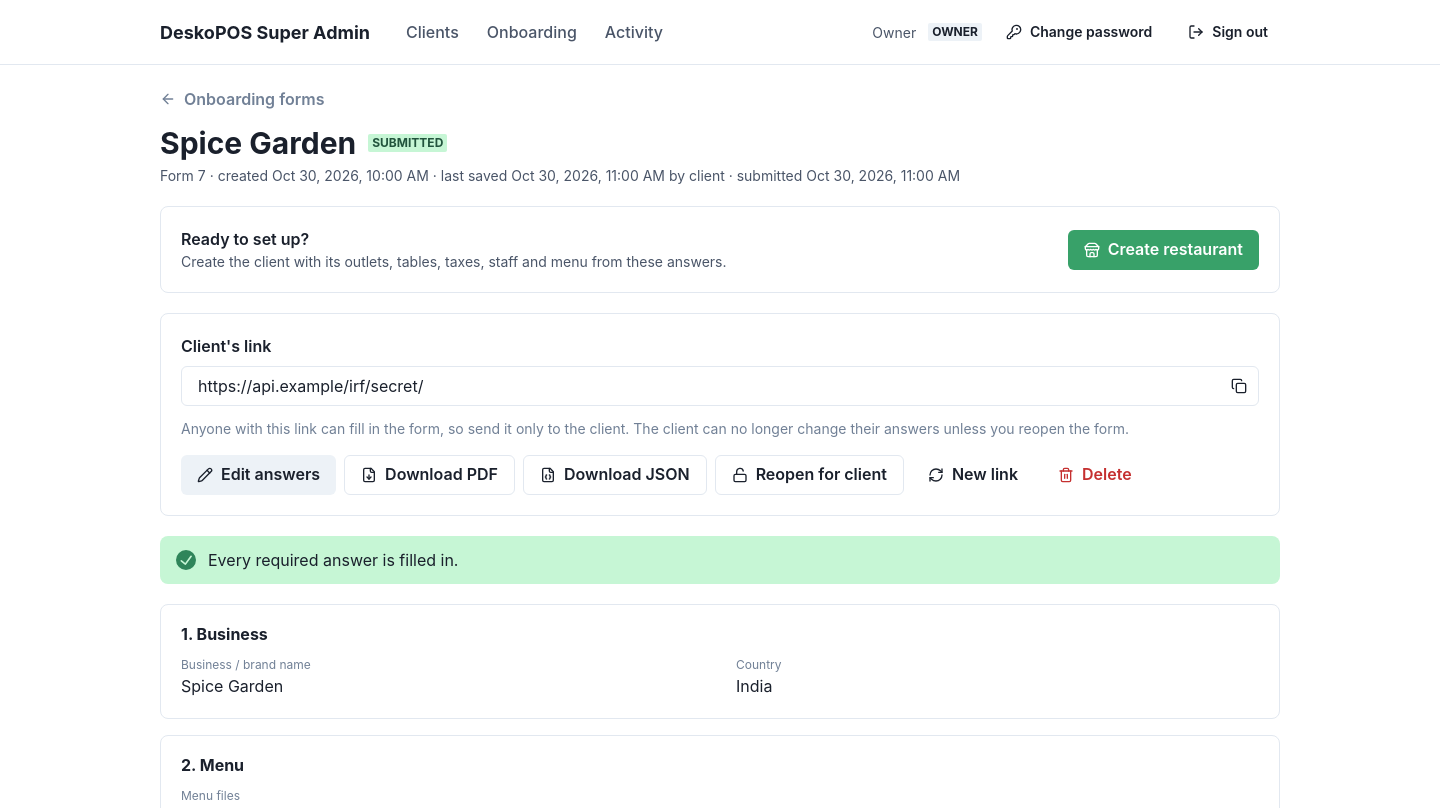
Scenario: onboarding forms › shows the answers, the link and the review actions
Check: the field showing "https://api.example/irf/secret/" is shown, box x1=181 y1=366 x2=1259 y2=406
Check: the text "India" is shown, box x1=736 y1=676 x2=772 y2=696
Click the button "Reopen for client" at point(809, 475), box x1=715 y1=455 x2=904 y2=495
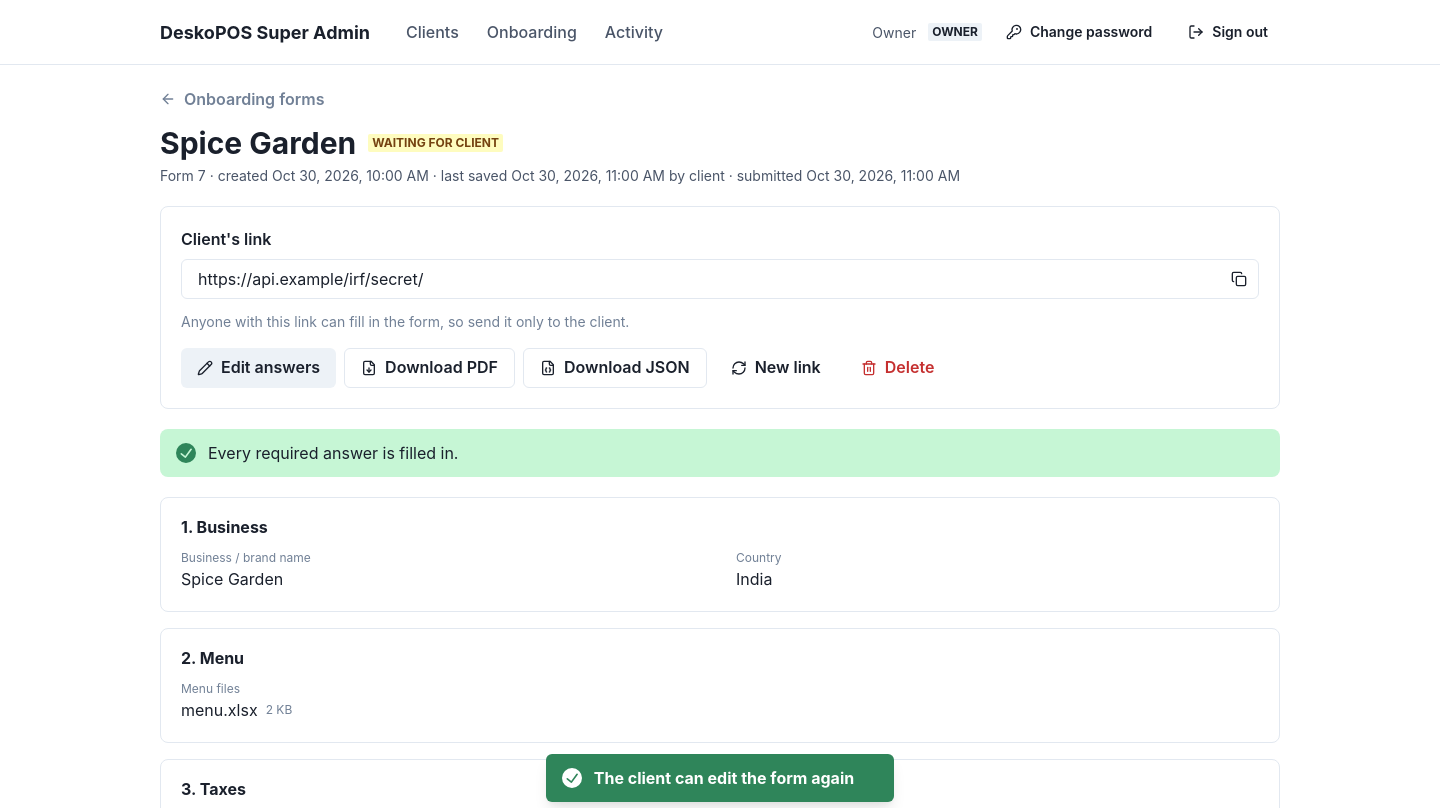
Check: the text "Waiting for client" is shown, box x1=368 y1=134 x2=503 y2=152
